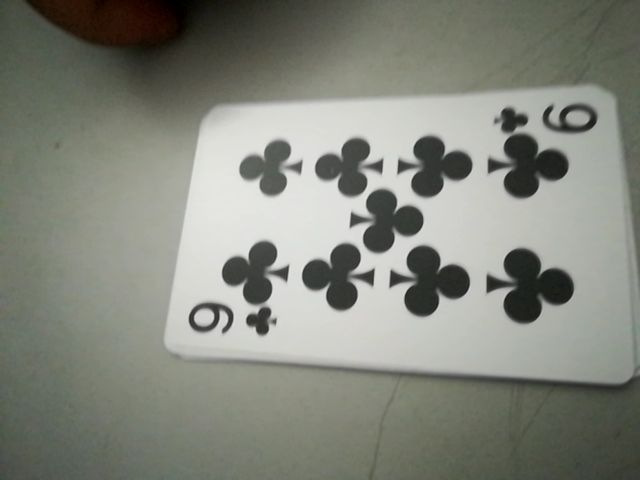mh 9: (184, 297, 284, 348), (493, 97, 605, 140)
